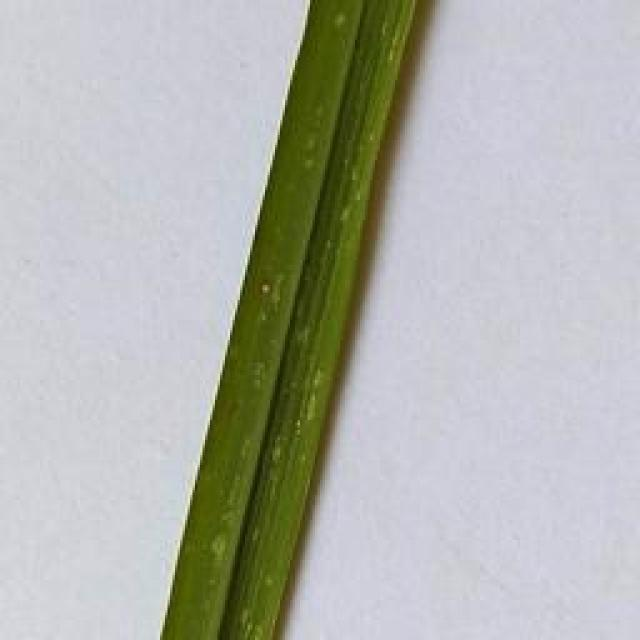Unhealthy: (258, 278, 274, 295)
